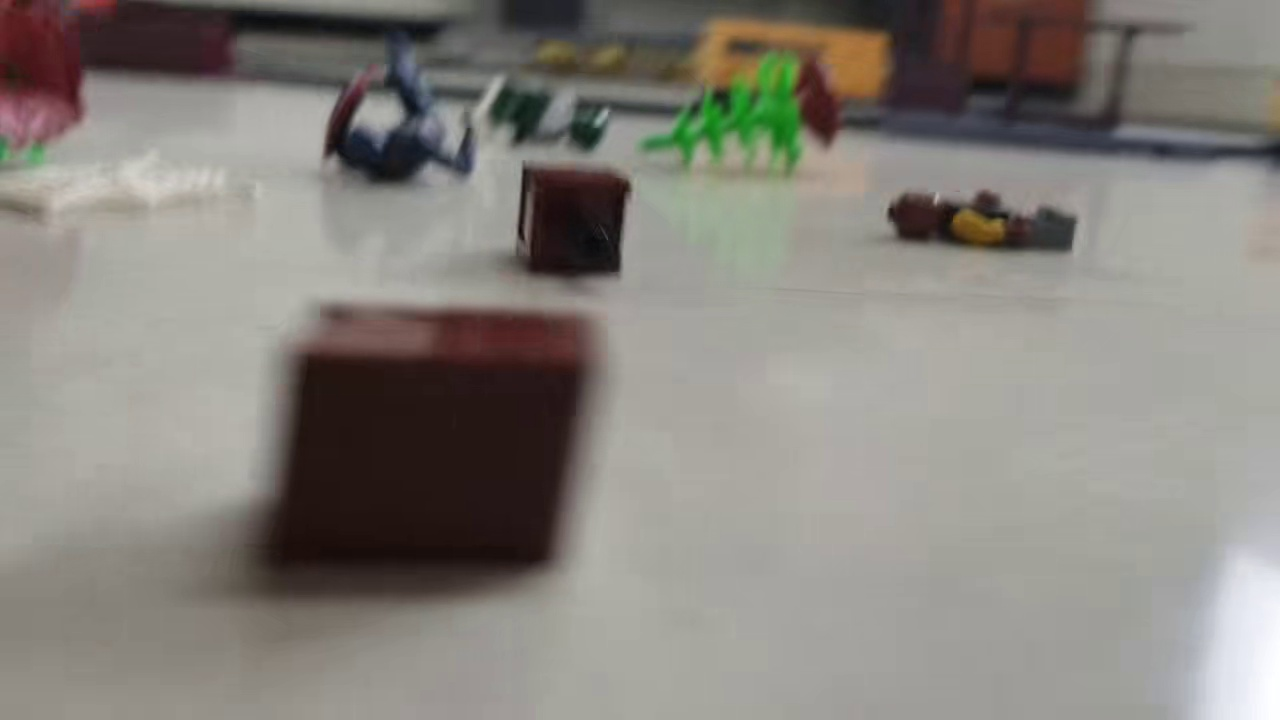box: (241, 308, 602, 578), (517, 159, 631, 278)
people: (319, 25, 479, 187), (887, 184, 1079, 265), (465, 74, 614, 156)
tree: (640, 51, 843, 180)
web: (1, 147, 260, 232)
